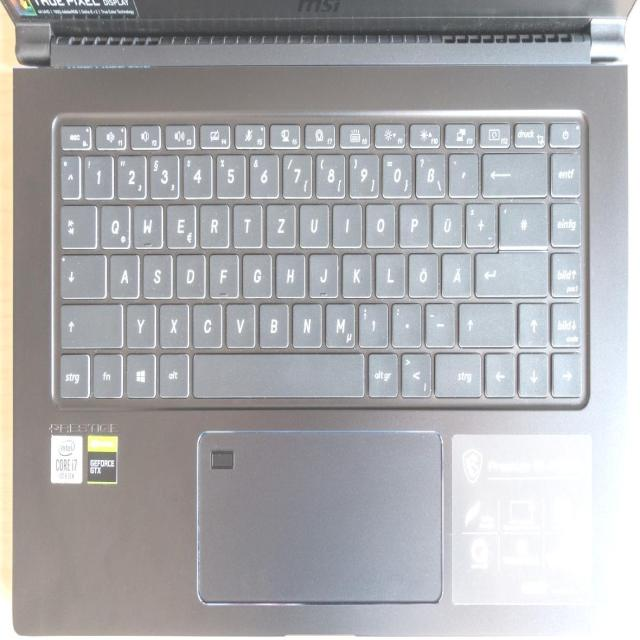0: (380, 149, 411, 196)
1: (82, 151, 112, 196)
2: (115, 151, 145, 197)
3: (147, 150, 178, 197)
4: (181, 150, 211, 196)
5: (214, 150, 245, 196)
6: (248, 149, 279, 196)
7: (280, 149, 311, 196)
8: (313, 150, 344, 196)
9: (346, 149, 378, 195)
a: (108, 249, 139, 296)
accent: (446, 148, 477, 195)
ae: (439, 248, 471, 295)
alt-left: (157, 350, 188, 397)
altgr-right: (366, 348, 397, 396)
b: (257, 299, 288, 345)
c: (190, 299, 222, 346)
caret: (58, 151, 79, 197)
comma: (356, 298, 387, 345)
d: (174, 250, 205, 297)
del: (479, 148, 547, 195)
e: (165, 200, 196, 247)
enter: (473, 247, 547, 295)
f: (207, 249, 237, 296)
g: (240, 249, 271, 296)
h: (273, 249, 304, 296)
hash: (497, 198, 548, 246)
i: (330, 199, 361, 245)
j: (306, 248, 337, 296)
k: (340, 248, 371, 296)
keyboard: (42, 102, 595, 414)
l: (373, 248, 404, 295)
less: (399, 349, 431, 398)
m: (323, 298, 354, 346)
minus: (422, 298, 453, 344)
n: (290, 298, 321, 345)
o: (363, 199, 395, 246)
oe: (406, 249, 437, 296)
p: (397, 198, 428, 245)
plus: (463, 198, 495, 245)
point: (389, 298, 420, 345)
q: (98, 200, 130, 247)
r: (198, 199, 229, 246)
s: (141, 250, 172, 297)
shift-left: (58, 298, 122, 346)
shift-lock: (58, 249, 105, 296)
shift-right: (457, 298, 514, 345)
space: (191, 349, 364, 398)
ss: (413, 149, 444, 195)
strg-left: (57, 350, 88, 398)
strg-right: (432, 348, 482, 396)
t: (231, 199, 261, 245)
tab: (58, 200, 96, 246)
u: (297, 199, 328, 246)
ue: (430, 198, 461, 245)
v: (223, 299, 255, 346)
w: (131, 199, 162, 246)
x: (157, 299, 189, 346)
y: (124, 300, 155, 346)
z: (264, 199, 295, 246)
